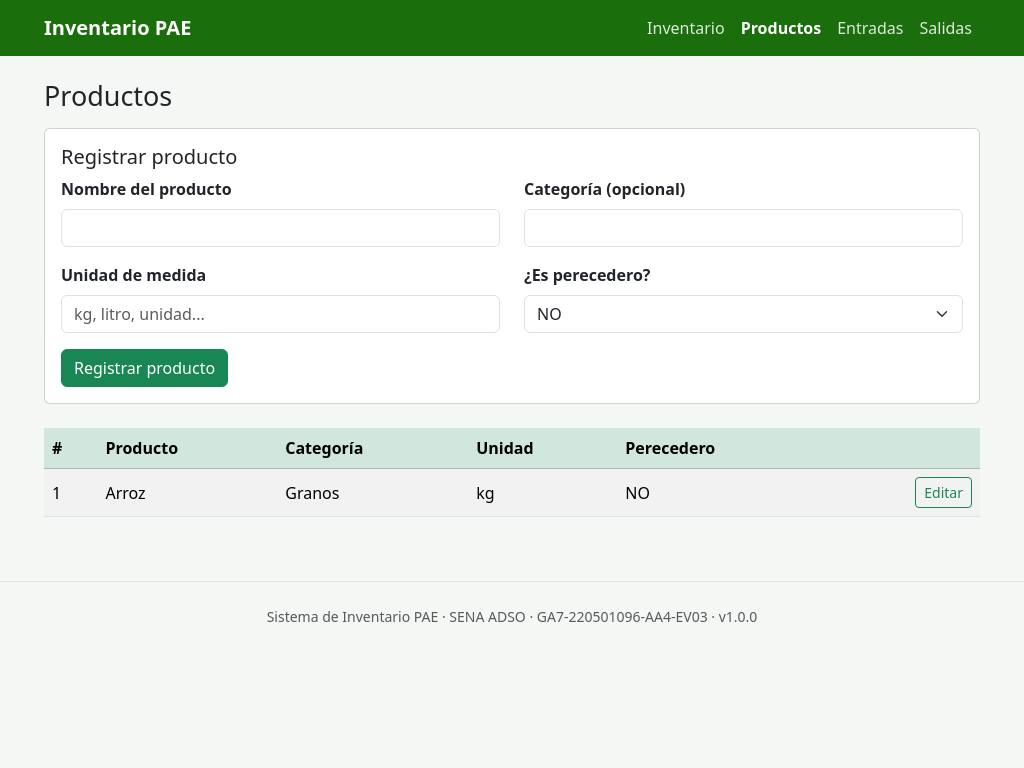
it: Sistema de Inventario PAE (front-end) › HU-02: muestra el error de producto duplicado que devuelve la API
The image size is (1024, 768).
Check: the text "Arroz" is shown, box [98,469,277,517]
Type "Arroz" into the field labelled "Nombre del producto". click: (280, 228)
box: [61,209,500,247]
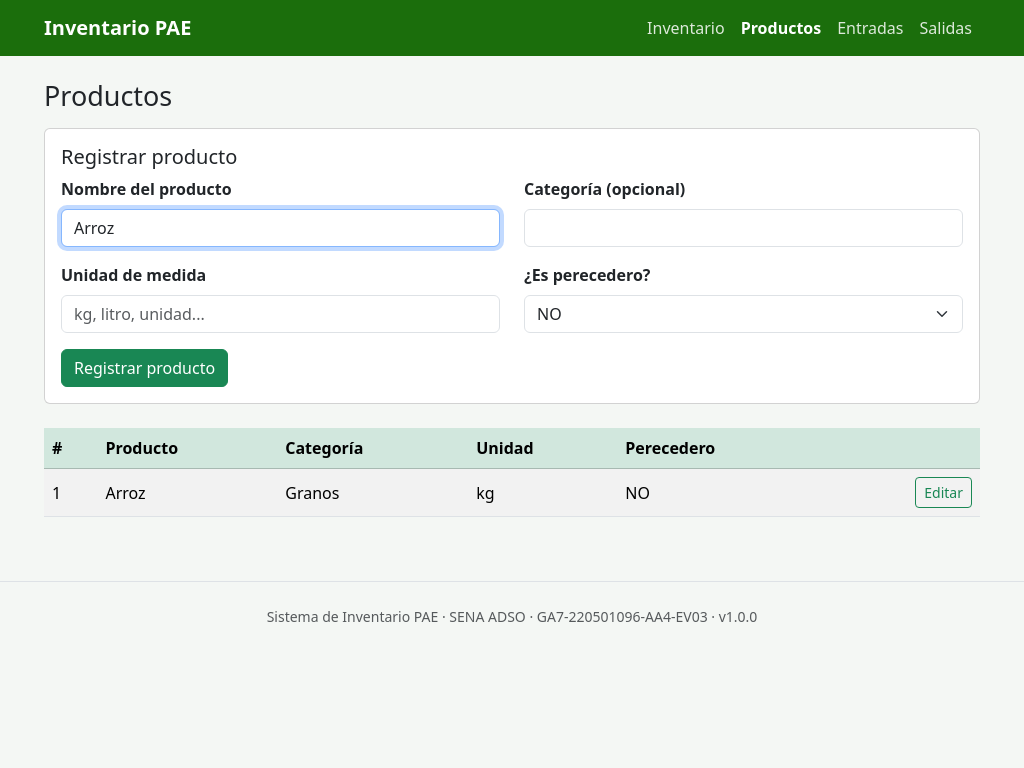
Type "kg" into the field labelled "Unidad de medida". click: (280, 314)
box: [61,295,500,333]
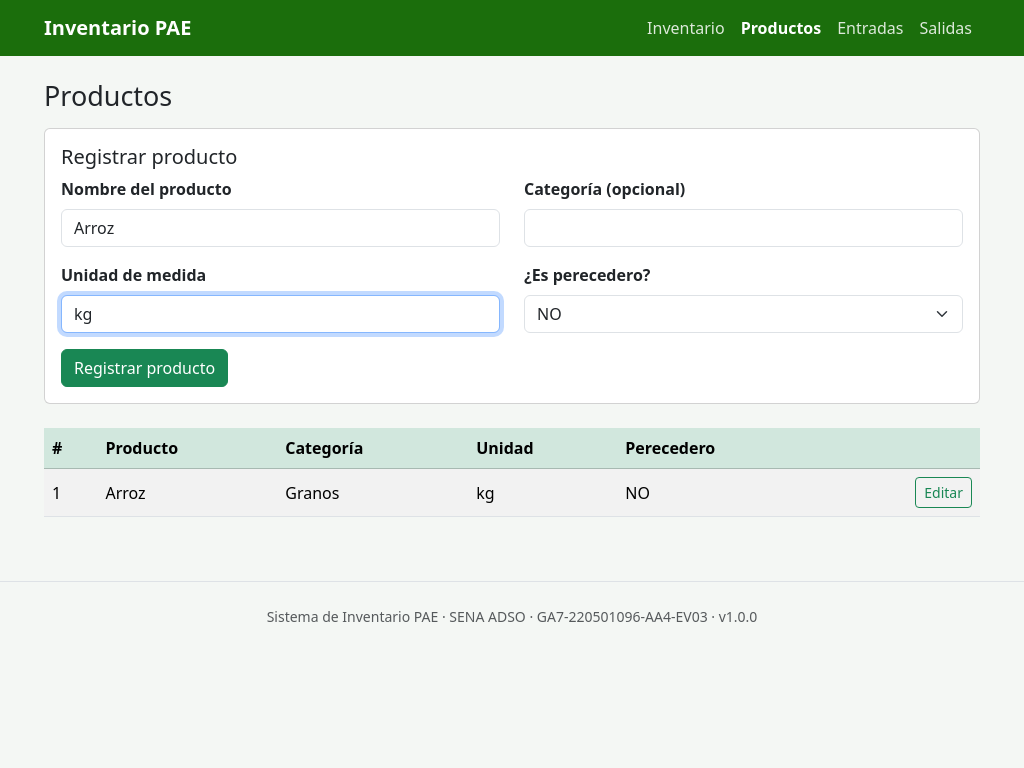
Click the button "Registrar producto". click: (145, 368)
box: [61,349,228,387]
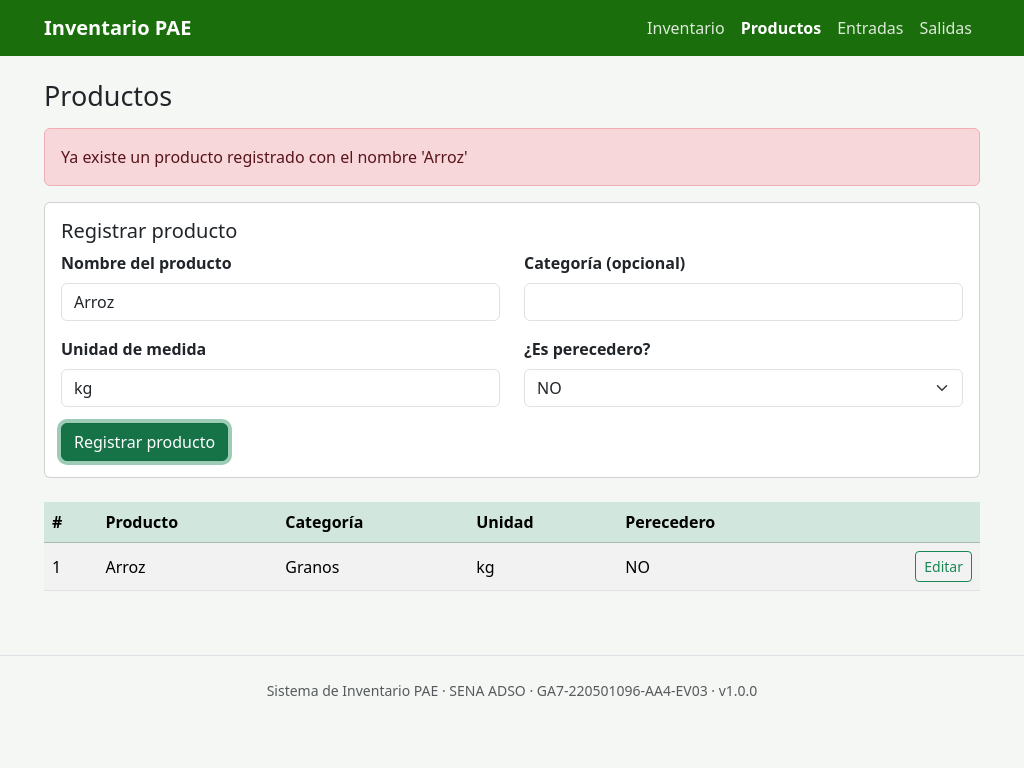
Check: the text "Ya existe un producto registrado con el nombre 'Arroz'" is shown, box [44,128,980,186]
